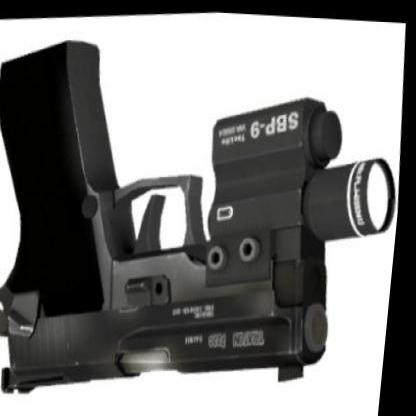pistol: (0, 7, 410, 413)
